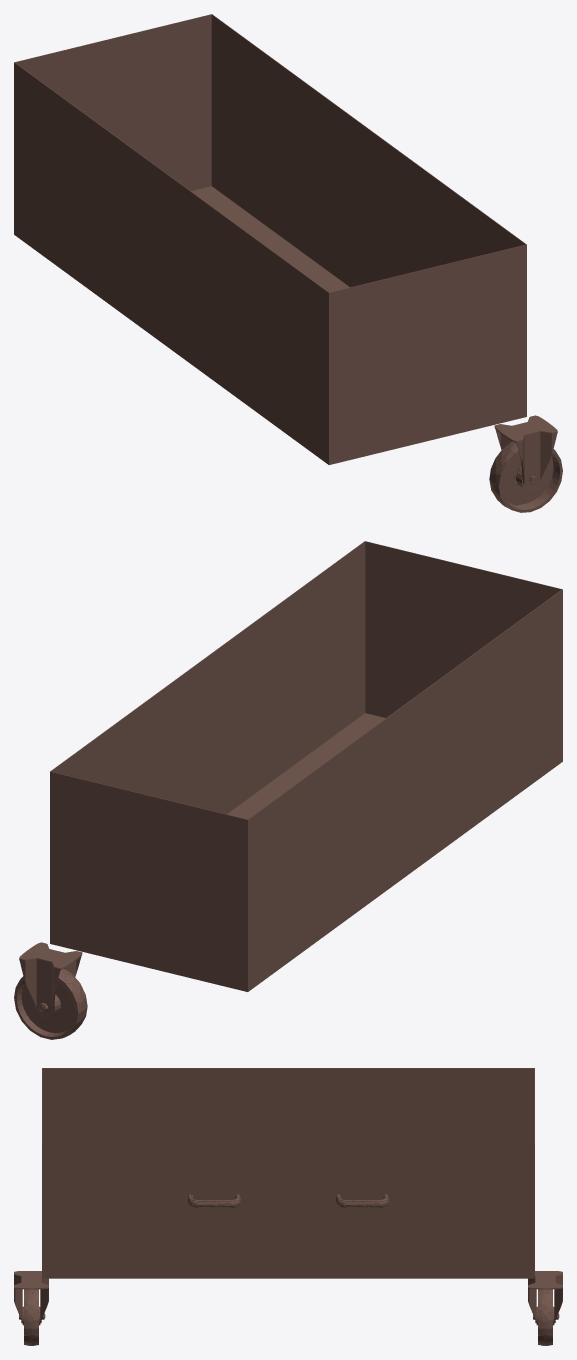
File: GCC-AAV-13220-30.nwd(170).fbx
3 renders of one model, top to bottom at view 1: azimuth 30°, elevation 25°; view 2: azimuth 150°, elevation 25°; view 3: azimuth 270°, elevation 25°, orthographic. The views are drawn at different scales.
Visible parts, largest first — view 1: POLYHEDRON 3 of EQUIPMENT /711-X-103, POHEDRON 1 of SUBEQUIPMENT 1213 of EQUIPMENT /711-X-103, POHEDRON 1 of SUBEQUIPMENT 1181 of EQUIPMENT /711-X-103, EXTRUSION 1 of SUBEQUIPMENT 1181 of EQUIPMENT /711-X-103; view 2: POLYHEDRON 3 of EQUIPMENT /711-X-103, POHEDRON 1 of SUBEQUIPMENT 1238 of EQUIPMENT /711-X-103, POHEDRON 1 of SUBEQUIPMENT 1217 of EQUIPMENT /711-X-103, EXTRUSION 1 of SUBEQUIPMENT 1217 of EQUIPMENT /711-X-103; view 3: POLYHEDRON 3 of EQUIPMENT /711-X-103, POHEDRON 1 of SUBEQUIPMENT 1213 of EQUIPMENT /711-X-103, POHEDRON 1 of SUBEQUIPMENT 1238 of EQUIPMENT /711-X-103, POHEDRON 1 of SUBEQUIPMENT 1181 of EQUIPMENT /711-X-103, POHEDRON 1 of SUBEQUIPMENT 1217 of EQUIPMENT /711-X-103, POHEDRON 1 of SUBEQUIPMENT 1589 of EQUIPMENT /711-X-103, POHEDRON 1 of SUBEQUIPMENT 1587 of EQUIPMENT /711-X-103.
Boxes of the visible parts, left/top/right/bottom form: POLYHEDRON 3 of EQUIPMENT /711-X-103: left=14, top=14, right=526, bottom=464; POHEDRON 1 of SUBEQUIPMENT 1213 of EQUIPMENT /711-X-103: left=494, top=415, right=557, bottom=487; POHEDRON 1 of SUBEQUIPMENT 1181 of EQUIPMENT /711-X-103: left=489, top=441, right=562, bottom=512; EXTRUSION 1 of SUBEQUIPMENT 1181 of EQUIPMENT /711-X-103: left=501, top=453, right=553, bottom=504; POLYHEDRON 3 of EQUIPMENT /711-X-103: left=50, top=541, right=562, bottom=991; POHEDRON 1 of SUBEQUIPMENT 1238 of EQUIPMENT /711-X-103: left=19, top=942, right=82, bottom=1014; POHEDRON 1 of SUBEQUIPMENT 1217 of EQUIPMENT /711-X-103: left=14, top=969, right=87, bottom=1039; EXTRUSION 1 of SUBEQUIPMENT 1217 of EQUIPMENT /711-X-103: left=21, top=980, right=75, bottom=1032; POLYHEDRON 3 of EQUIPMENT /711-X-103: left=42, top=1068, right=534, bottom=1278; POHEDRON 1 of SUBEQUIPMENT 1213 of EQUIPMENT /711-X-103: left=14, top=1271, right=48, bottom=1323; POHEDRON 1 of SUBEQUIPMENT 1238 of EQUIPMENT /711-X-103: left=528, top=1271, right=562, bottom=1323; POHEDRON 1 of SUBEQUIPMENT 1181 of EQUIPMENT /711-X-103: left=24, top=1289, right=40, bottom=1345; POHEDRON 1 of SUBEQUIPMENT 1217 of EQUIPMENT /711-X-103: left=538, top=1289, right=554, bottom=1345; POHEDRON 1 of SUBEQUIPMENT 1589 of EQUIPMENT /711-X-103: left=188, top=1194, right=240, bottom=1207; POHEDRON 1 of SUBEQUIPMENT 1587 of EQUIPMENT /711-X-103: left=336, top=1194, right=388, bottom=1207.
Bounding box in the file's own units: 26.85 × 29.62 × 72.91.
